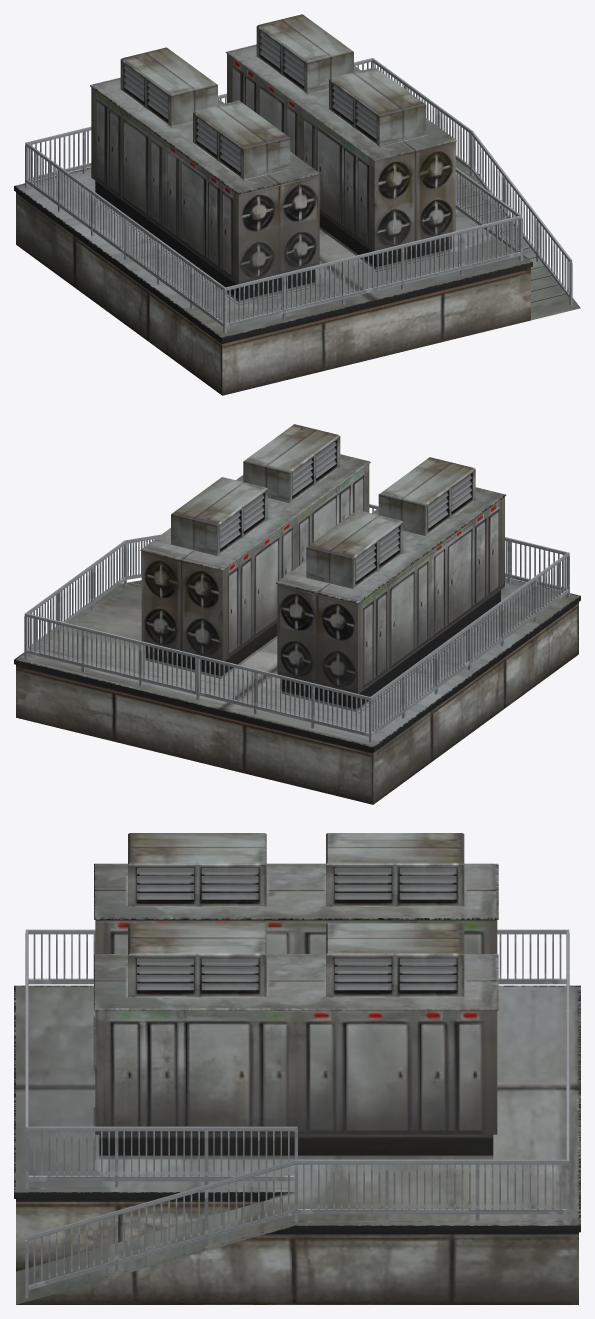
The model's file is transformerstation_cad.glb.
The picture shows the model from 3 angles, top to bottom: view 1: azimuth 30°, elevation 25°; view 2: azimuth 150°, elevation 25°; view 3: azimuth 270°, elevation 25°; orthographic projection. The views are drawn at different scales.
Parts seen in each view (by area): view 1: TransformerStation; view 2: TransformerStation; view 3: TransformerStation.
Part boxes in pixels (x1,y1,x2,y2): TransformerStation: (14,14,580,395); TransformerStation: (14,424,580,804); TransformerStation: (14,833,580,1304).
Size of the model in its own units: 16.74 by 8.96 by 16.69.
1 material, 1 textured.
